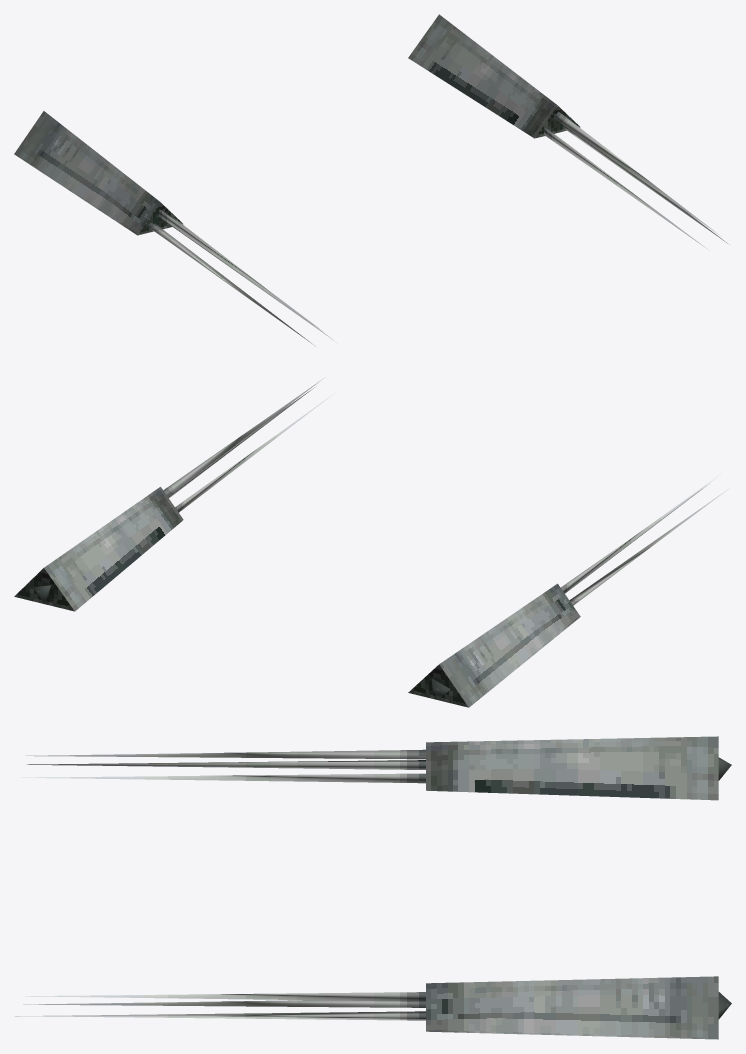
Rendered from black_sun_fighter_heavy_weapon1_s04_l3.fbx.
3 renders of one model, top to bottom at view 1: azimuth 30°, elevation 25°; view 2: azimuth 150°, elevation 25°; view 3: azimuth 270°, elevation 25°, orthographic. The views are drawn at different scales.
Visible parts, largest first — view 1: mesh_node; view 2: mesh_node; view 3: mesh_node.
Boxes of the visible parts, box(x1,y1,x2,y2) form: mesh_node: box(14, 14, 729, 346); mesh_node: box(14, 378, 727, 707); mesh_node: box(15, 736, 731, 1039).
Bounding box in the file's own units: 3.2 × 0.2431 × 3.51.
Materials: 1 (1 with a texture image).
